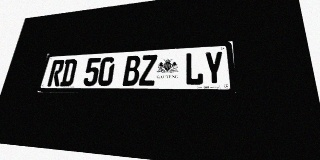0: (97, 57, 115, 86)
5: (83, 58, 101, 86)
B: (122, 55, 141, 86)
D: (59, 59, 78, 86)
L: (185, 52, 204, 85)
R: (47, 60, 65, 86)
Y: (204, 51, 225, 85)
Z: (139, 54, 157, 86)
